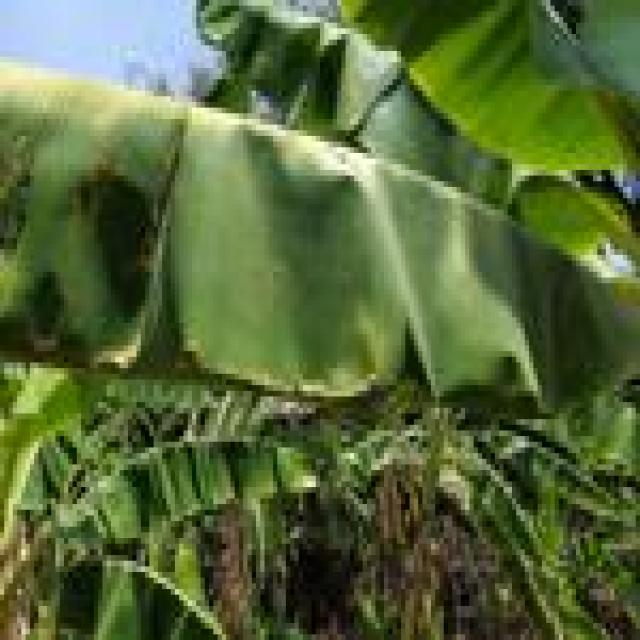Early_rust: (0, 23, 201, 368)
